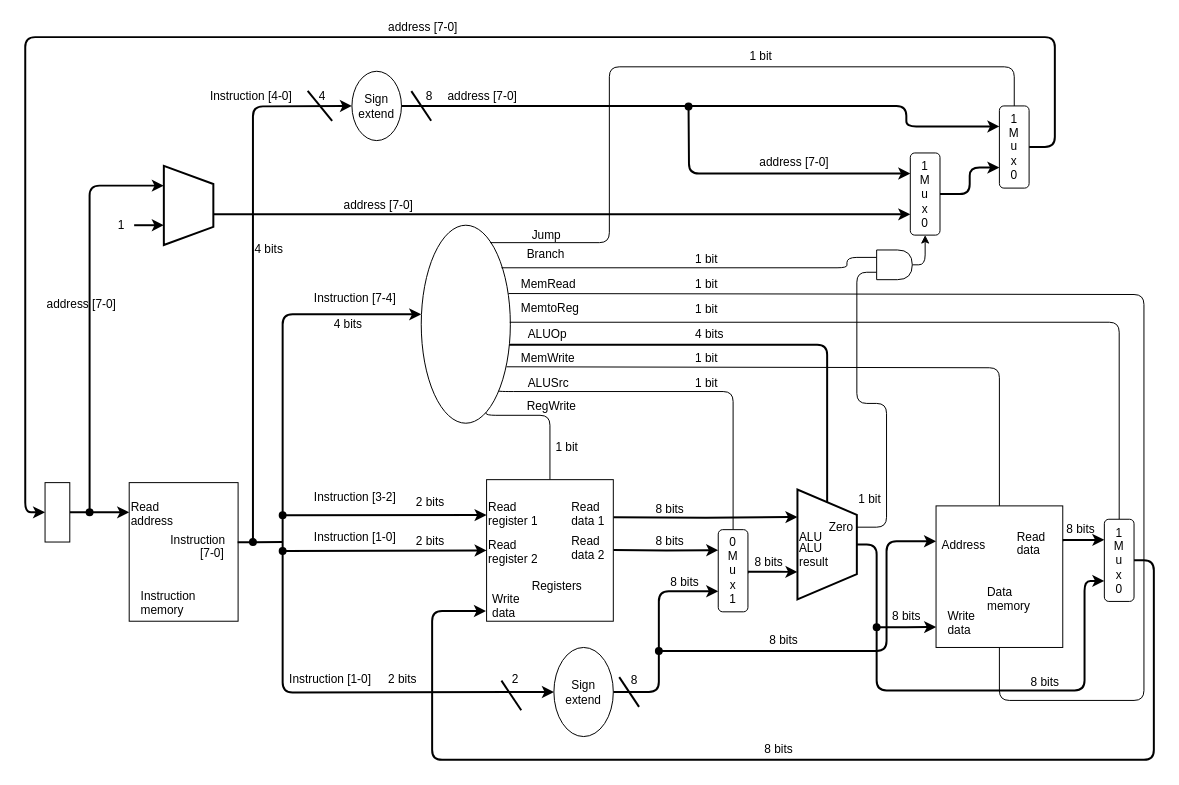
This 1179x785 diagram has some shape labels left out. The shapes that lost their labels are listed below. From the top down, each one's centre as x and y in pixels, then its label:
(x=188, y=205): Add
(x=465, y=323): Control
(x=57, y=512): PC
